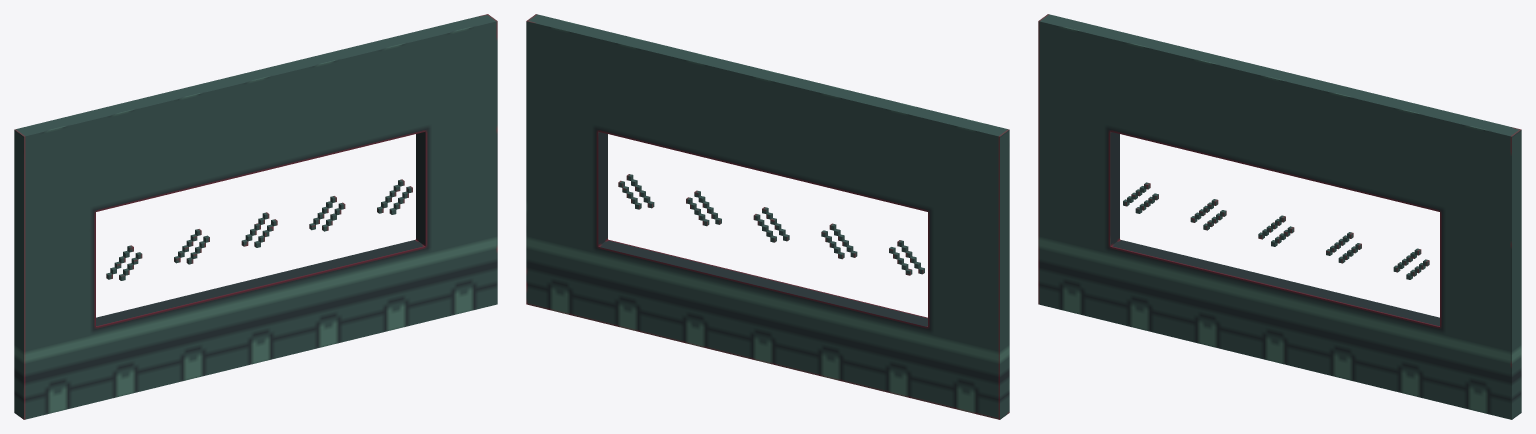
Rendered from Glass.fbx.
3 renders of one model, left to right at view 1: azimuth 30°, elevation 25°; view 2: azimuth 150°, elevation 25°; view 3: azimuth 330°, elevation 25°, orthographic.
Parts seen in each view (by area): view 1: Glass.001; view 2: Glass.001; view 3: Glass.001.
Boxes of the visible parts, x1,y1,x2,y2 form: Glass.001: (14,14,497,419); Glass.001: (526,14,1009,419); Glass.001: (1038,14,1521,419).
Bounding box in the file's own units: 11.2 × 6.4 × 0.4.
